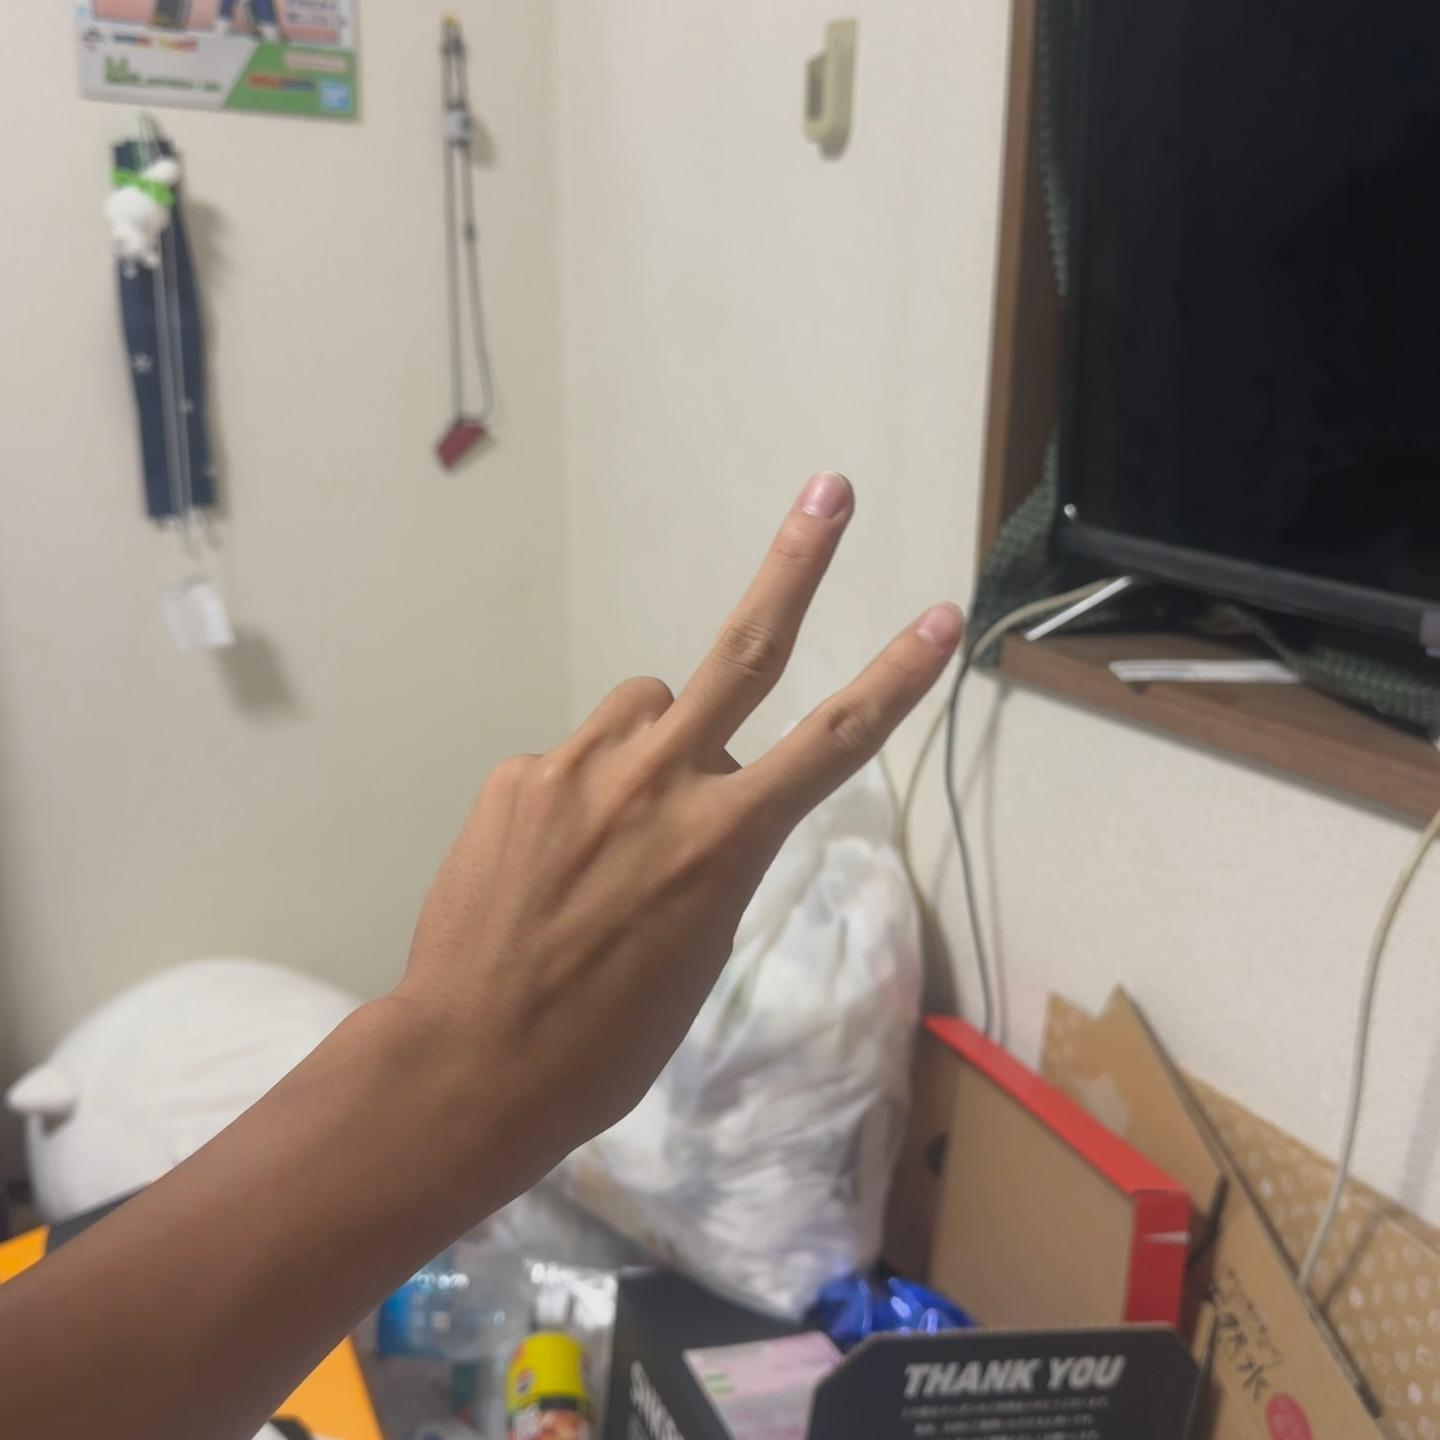without_gloves: (368, 280, 1002, 1161)
